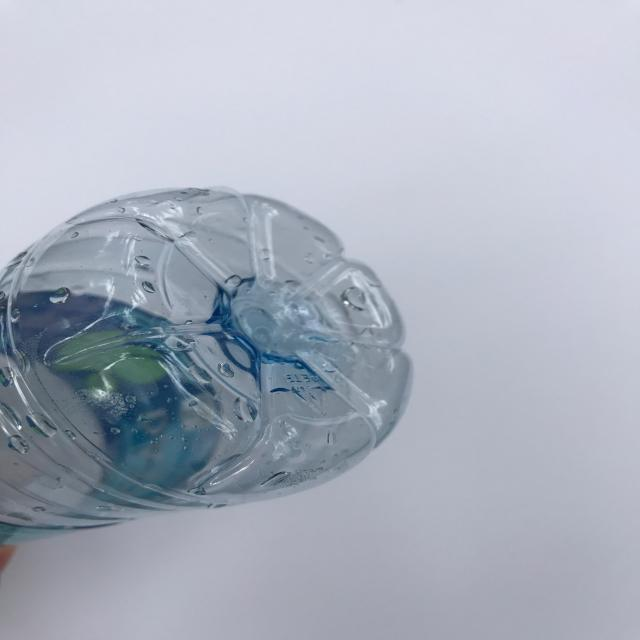plastic: (0, 187, 418, 557)
